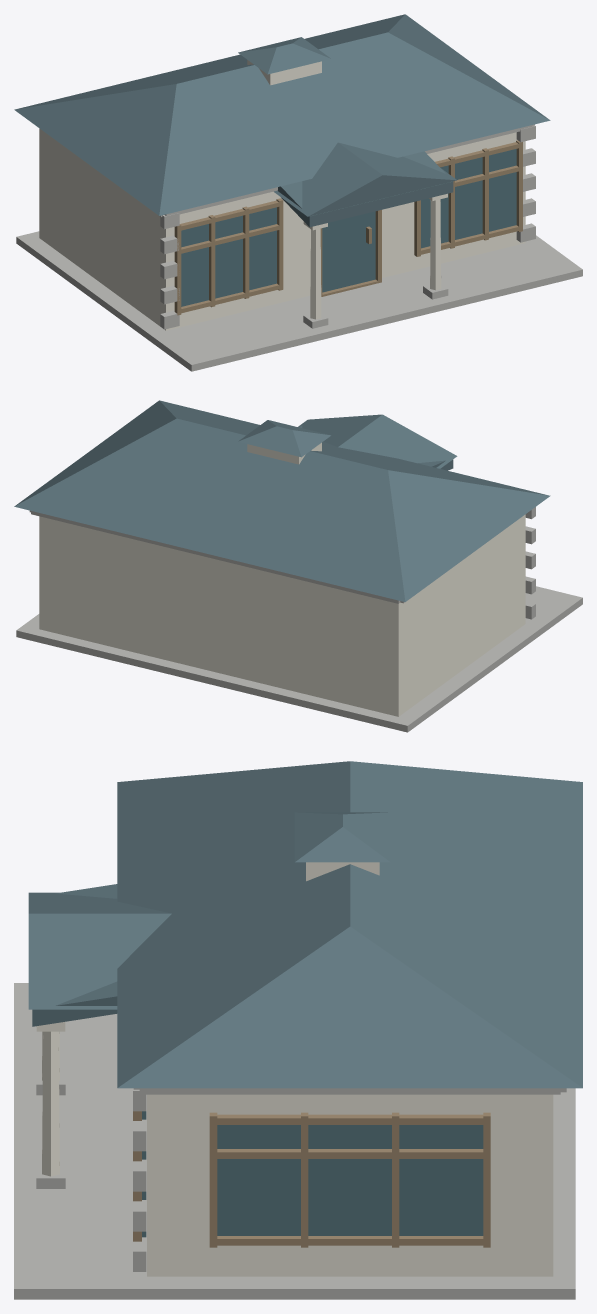
File: pro_shop_02.glb
3 views of the same model, one above another, from view 1: azimuth 30°, elevation 25°; view 2: azimuth 150°, elevation 25°; view 3: azimuth 270°, elevation 25° (orthographic). The views are drawn at different scales.
Parts seen in each view (by area): view 1: Pro_shop_02; view 2: Pro_shop_02; view 3: Pro_shop_02.
Boxes of the visible parts, <box> form: Pro_shop_02: <box>14,14,582,371</box>; Pro_shop_02: <box>14,400,582,732</box>; Pro_shop_02: <box>14,761,582,1299</box>.
Size of the model in its own units: 9.8 by 4.87 by 7.7.
